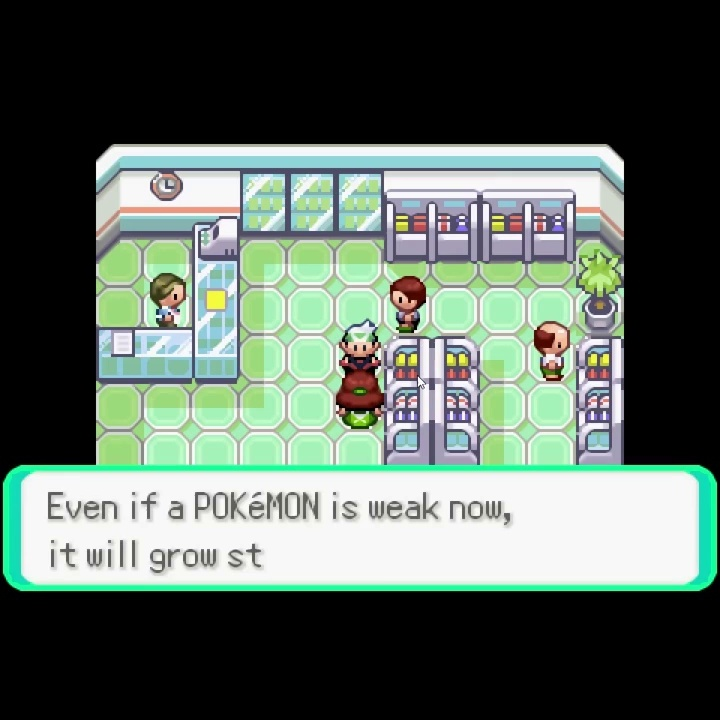npc: (333, 374, 384, 432), (532, 317, 571, 383), (388, 273, 429, 335), (338, 318, 382, 374), (148, 271, 190, 329)
